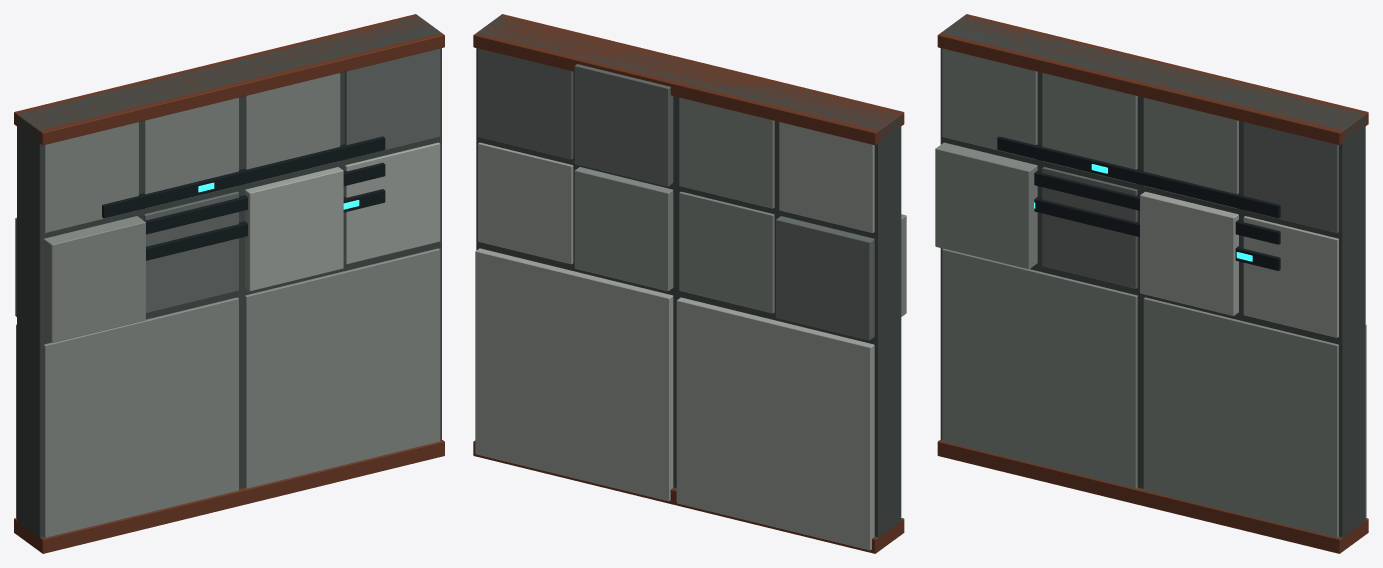
Rendered from RUIN_WALL_Vent_4x4.glb.
3 renders of one model, left to right at view 1: azimuth 30°, elevation 25°; view 2: azimuth 150°, elevation 25°; view 3: azimuth 330°, elevation 25°, orthographic.
Parts seen in each view (by area): view 1: RUIN_WALL_Vent_4x4; view 2: RUIN_WALL_Vent_4x4; view 3: RUIN_WALL_Vent_4x4.
Part boxes in pixels (x1,y1,x2,y2): RUIN_WALL_Vent_4x4: [14, 14, 444, 553]; RUIN_WALL_Vent_4x4: [473, 14, 906, 553]; RUIN_WALL_Vent_4x4: [935, 14, 1368, 553].
Size of the model in its own units: 4 by 4 by 0.64.
